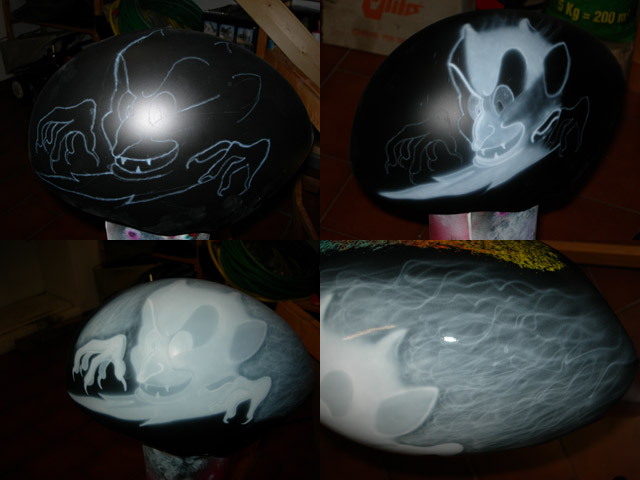helmet: (48, 45, 290, 213), (74, 284, 315, 434), (376, 27, 588, 184)
